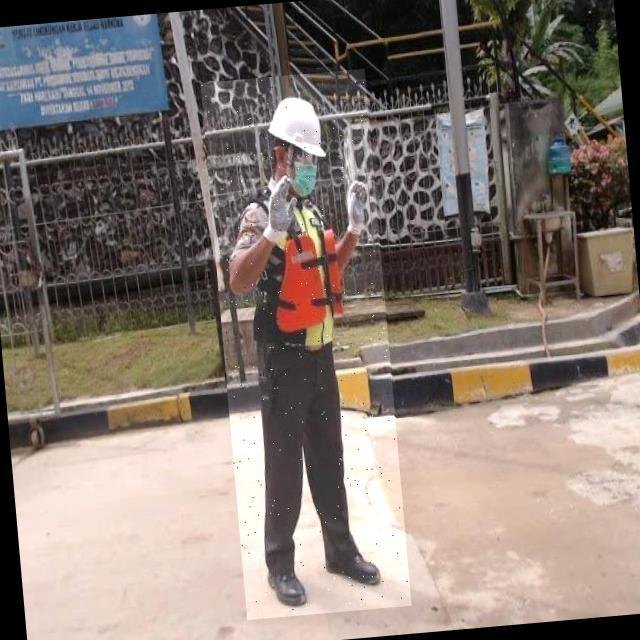Gloves: (263, 171, 304, 254), (344, 174, 375, 244)
Helmet: (263, 90, 334, 167)
Person: (189, 84, 420, 627)
Safety Boot: (322, 537, 393, 596), (266, 563, 317, 619)
Safety Vest: (251, 189, 359, 358)
